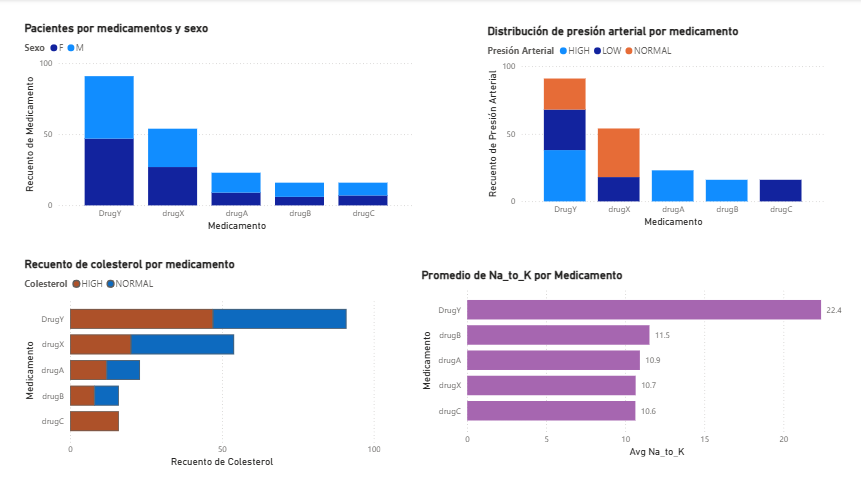

This screenshot's page, from the dashboard's own definition file:
{"tool":"powerbi","page":{"name":"Página 2","canvas":[1280,720],"ordinal":1},"visuals":[{"type":"columnChart","title":"Pacientes por medicamentos y sexo","fields":{"Category":["fact_prescriptions.Medicamento"],"Y":["CountNonNull(fact_prescriptions.Medicamento)"],"Series":["fact_prescriptions.Sexo"]},"box":[38,32.2,581,313.2],"z":0},{"type":"columnChart","title":"Distribución de presión arterial por medicamento","fields":{"Category":["fact_prescriptions.Medicamento"],"Y":["CountNonNull(fact_prescriptions.Presión Arterial)"],"Series":["fact_prescriptions.Presión Arterial"]},"box":[715.6,36.6,503.4,302.9],"z":1000},{"type":"barChart","title":"Recuento de colesterol por medicamento ","fields":{"Category":["fact_prescriptions.Medicamento"],"Y":["CountNonNull(fact_prescriptions.Colesterol)"],"Series":["fact_prescriptions.Colesterol"]},"box":[38,377.6,531.2,313.2],"z":2000},{"type":"clusteredBarChart","title":"Promedio de Na_to_K por Medicamento","fields":{"Category":["fact_prescriptions.Medicamento"],"Y":["fact_prescriptions.Avg Na_to_K"]},"box":[619,393.7,639.5,281],"z":3000}]}

Visuals, with their boxes in screenshot pixels (x1, y1, x2, y2), scaled from the page's 1280x720 canvas onto the 861x484 screenshot:
"Pacientes por medicamentos y sexo" columnChart: 26 22 416 232
"Distribución de presión arterial por medicamento" columnChart: 481 25 820 228
"Recuento de colesterol por medicamento " barChart: 26 254 383 464
"Promedio de Na_to_K por Medicamento" clusteredBarChart: 416 265 847 454
